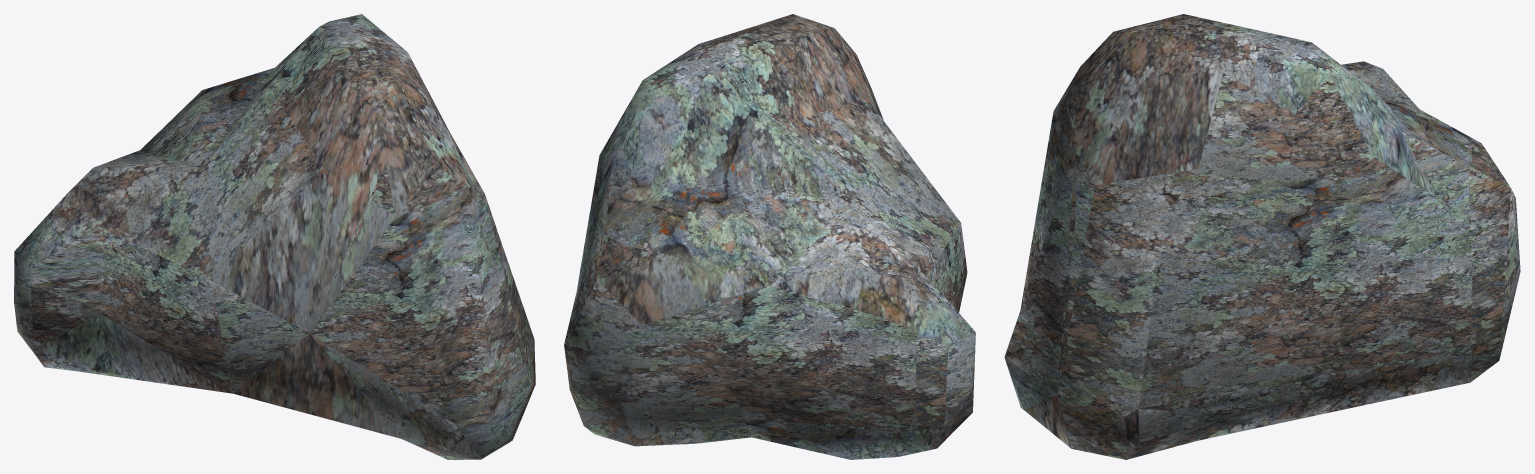
The model's file is MossRock01.DAE.
3 renders of one model, left to right at view 1: azimuth 30°, elevation 25°; view 2: azimuth 150°, elevation 25°; view 3: azimuth 270°, elevation 25°, orthographic. The views are drawn at different scales.
Parts seen in each view (by area): view 1: MossRock256, MossRock128; view 2: MossRock256, MossRock128; view 3: MossRock256, MossRock128.
Part boxes in pixels (<box>): MossRock256: <box>14,14,535,459</box>; MossRock128: <box>14,27,530,438</box>; MossRock256: <box>564,14,975,459</box>; MossRock128: <box>564,56,975,437</box>; MossRock256: <box>1004,14,1520,459</box>; MossRock128: <box>1004,33,1511,410</box>.
Size of what is drawn, in the model's own units: 155 by 157 by 134.
